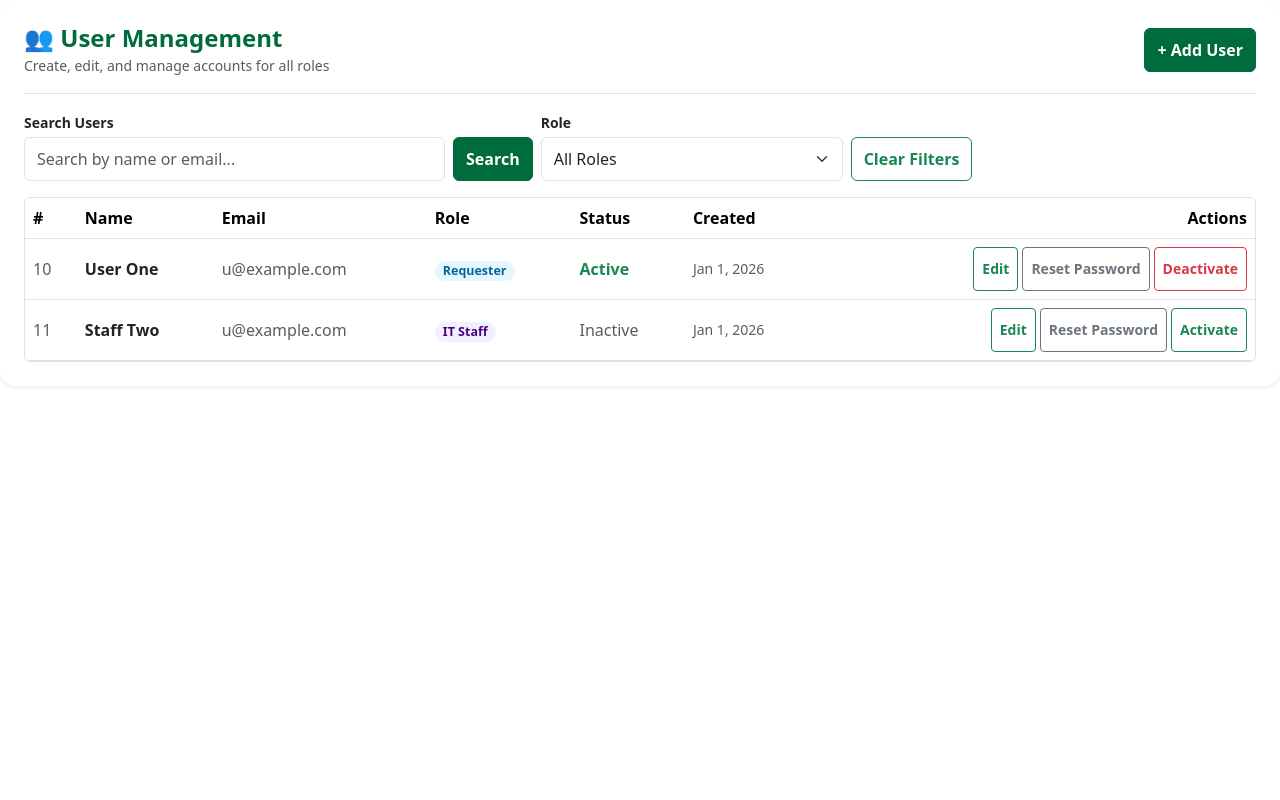
Test: Administrator User Management — conventions, actions, responsiveness › STYLE-02a: UserManagement create modal has required asterisks on Name, Email, Role, and Initial Password
Expected: the element with test id "user-mgmt-card" is shown, [0,0,1279,386]
Click the button with test id "user-mgmt-add-btn".
click(1200, 50)  # box [1144,28,1256,72]
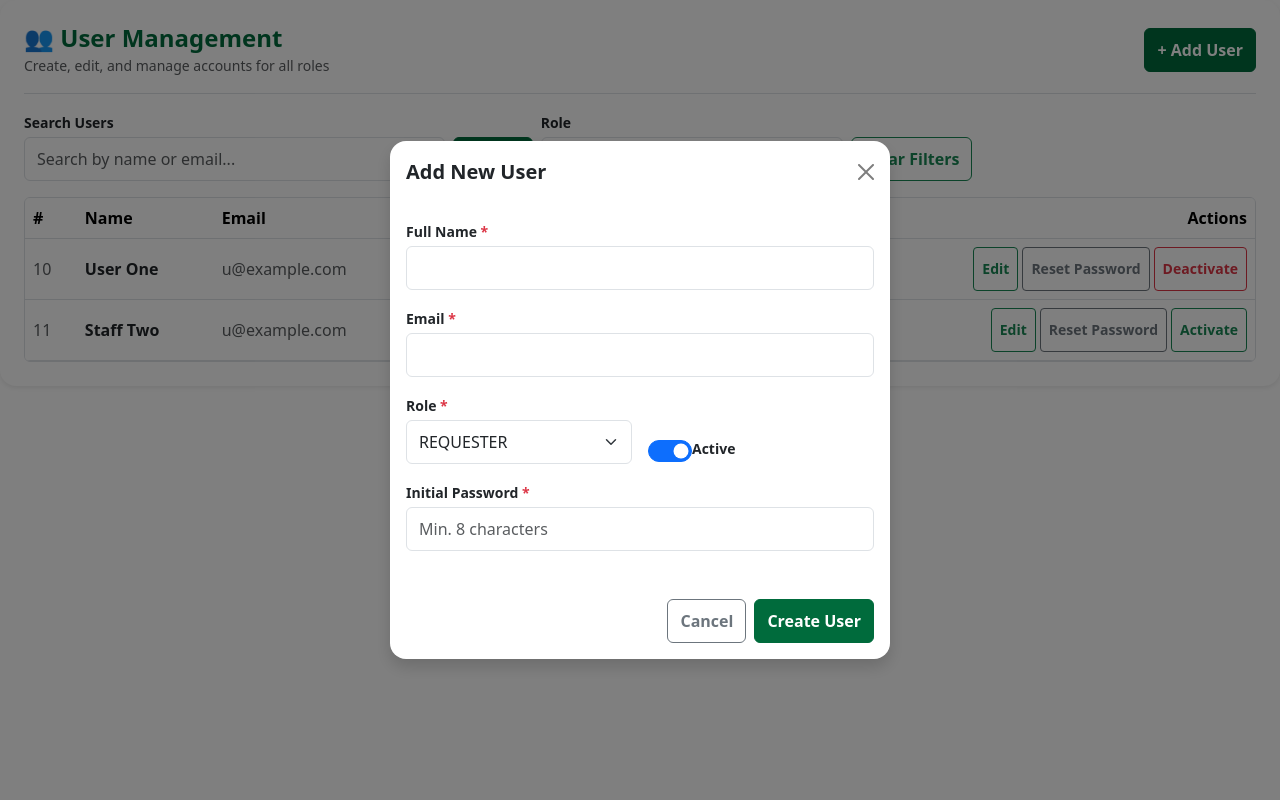
Expected: the text "*" next to "Full Name" is shown, [481,222,488,241]
Expected: the 2nd text "*" is shown, [448,309,456,328]
Expected: the 3rd text "*" is shown, [440,396,448,415]
